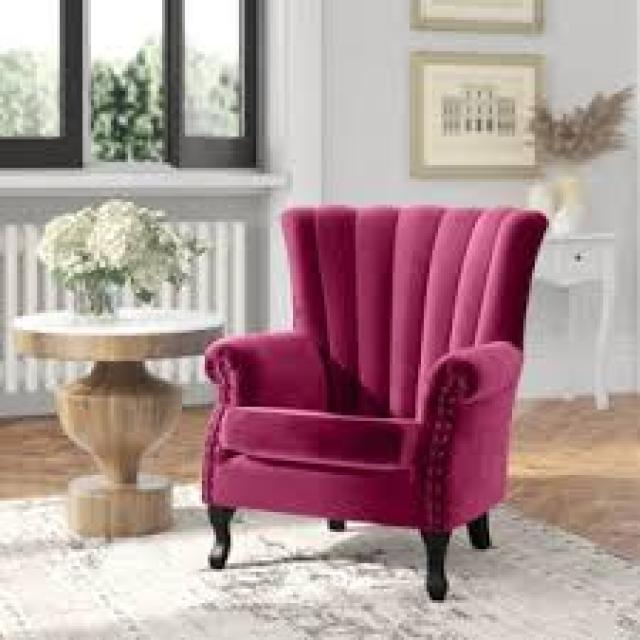chair: (147, 175, 578, 640)
